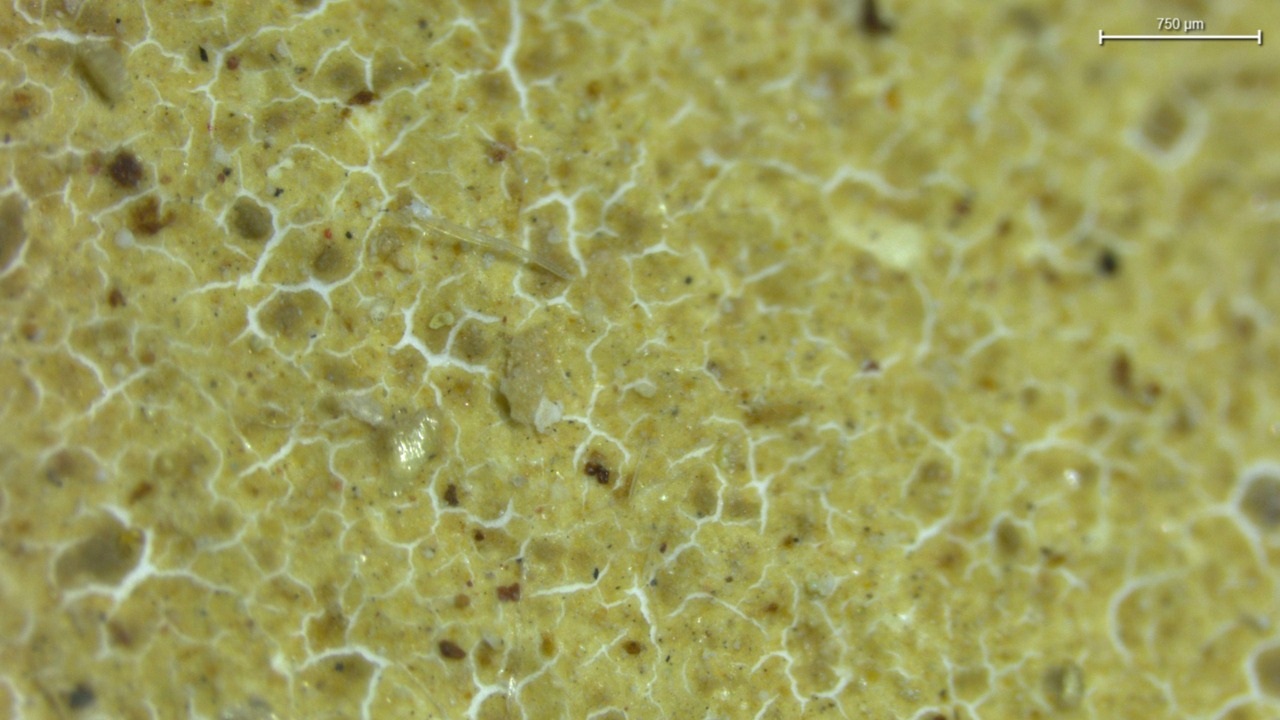microplastic_fragment: (499, 327, 563, 431), (73, 40, 125, 105)
